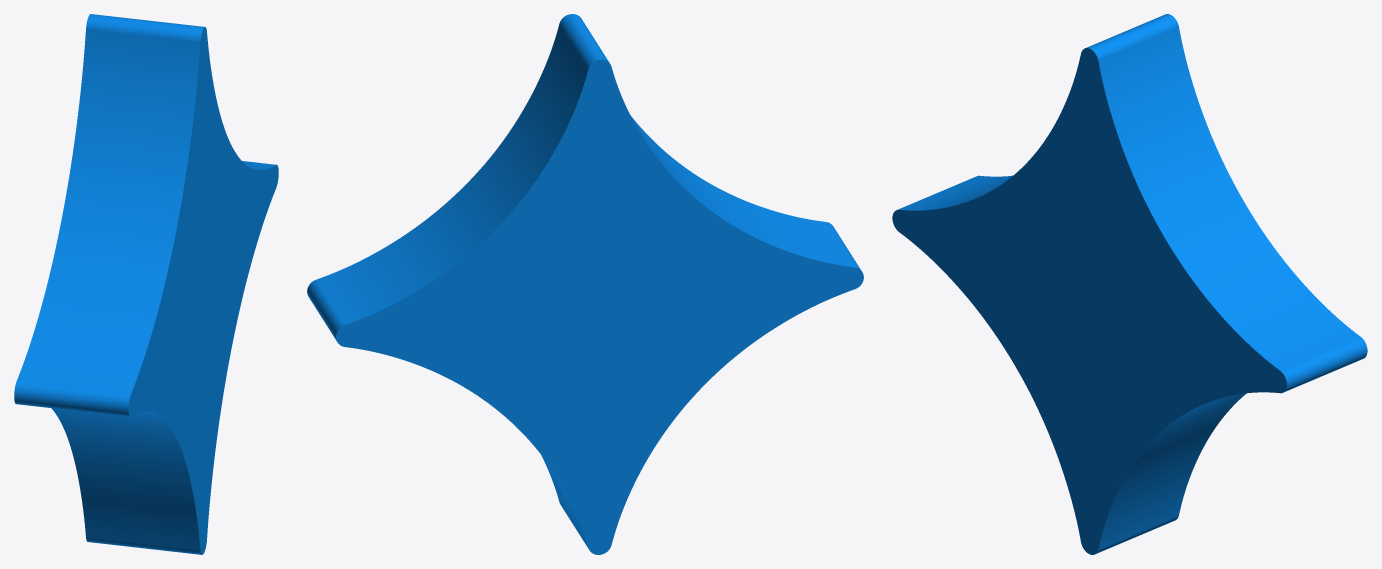
The model's file is GlassStar3.gltf.
The picture shows the model from 3 angles, left to right: view 1: azimuth 30°, elevation 25°; view 2: azimuth 150°, elevation 25°; view 3: azimuth 270°, elevation 25°; orthographic projection. The views are drawn at different scales.
Bounding box in the file's own units: 42.37 × 49.76 × 42.37.
